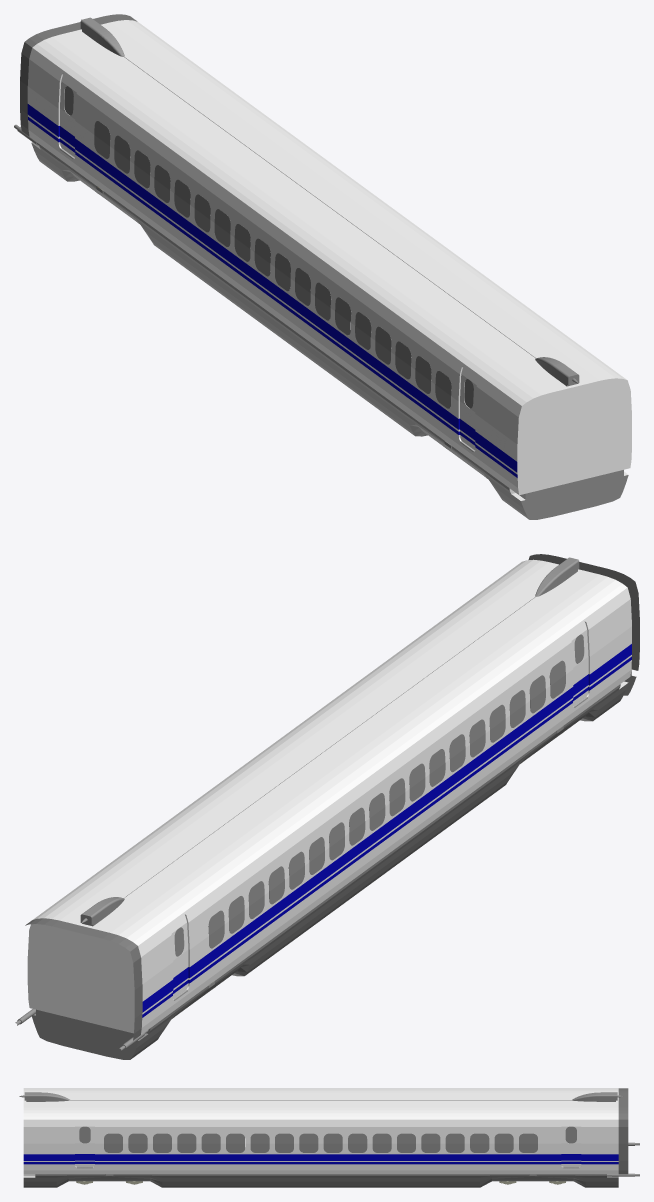
File: JR700-simple-car4.glb
3 views of the same model, one above another, from view 1: azimuth 30°, elevation 25°; view 2: azimuth 150°, elevation 25°; view 3: azimuth 270°, elevation 25° (orthographic). The views are drawn at different scales.
Parts seen in each view (by area): view 1: コンポーネント#1, Component#4, Component#2.003, Component#2, Object_45; view 2: コンポーネント#1, Component#4, root, Component#2, Component#2.003, Object_46; view 3: コンポーネント#1, Component#2.001, Component#4, Component#2.002, D=10.00000mm, Object_46, Object_45, Component#3, Component#3.019, Component#3.004, Component#3.010, Component#3.023 (+13 smaller).
Boxes of the visible parts, x1,y1,x2,y2 form: コンポーネント#1: [27, 20, 631, 519]; Component#4: [20, 14, 137, 136]; Component#2.003: [460, 366, 478, 450]; Component#2: [60, 73, 78, 157]; Object_45: [80, 17, 124, 56]; コンポーネント#1: [27, 559, 631, 1059]; Component#4: [25, 918, 142, 1040]; root: [528, 554, 639, 695]; Component#2: [170, 914, 188, 998]; Component#2.003: [570, 621, 588, 705]; Object_46: [535, 557, 579, 596]; コンポーネント#1: [23, 1088, 618, 1187]; Component#2.001: [561, 1121, 581, 1166]; Component#4: [618, 1088, 628, 1174]; Component#2.002: [75, 1121, 94, 1166]; D=10.00000mm: [70, 1100, 571, 1100]; Object_46: [19, 1092, 70, 1101]; Object_45: [572, 1092, 622, 1101]; Component#3: [421, 1133, 440, 1152]; Component#3.019: [299, 1133, 318, 1152]; Component#3.004: [372, 1133, 391, 1152]; Component#3.010: [177, 1133, 196, 1152]; Component#3.023: [250, 1133, 269, 1152].
Size of the model in its own units: 3.38 by 3.88 by 26.29.
Materials: 11 (3 with a texture image).
